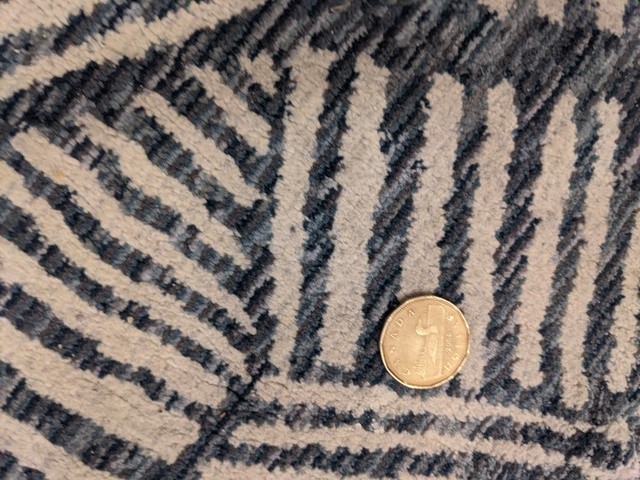loonie: (371, 281, 483, 395)
